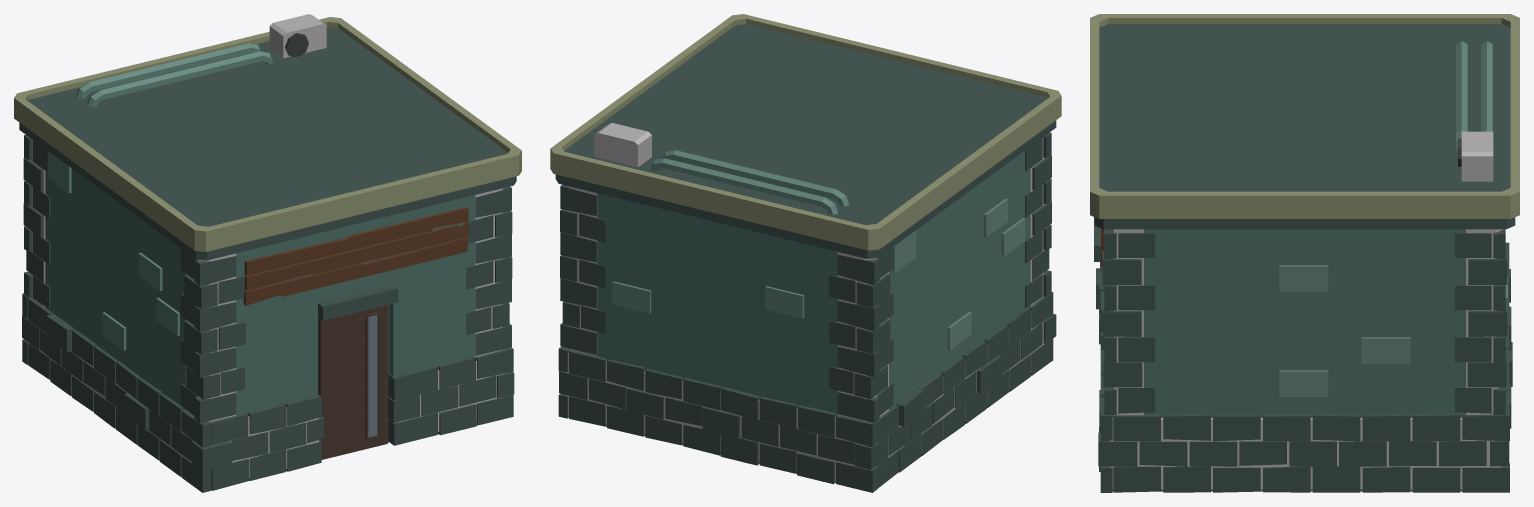
Rendered from quaternius-buildings-pack-3-1-story-sign-mat.glb.
The picture shows the model from 3 angles, left to right: view 1: azimuth 30°, elevation 25°; view 2: azimuth 150°, elevation 25°; view 3: azimuth 270°, elevation 25°; orthographic projection. The views are drawn at different scales.
Parts seen in each view (by area): view 1: 1Story_Sign_Mat; view 2: 1Story_Sign_Mat; view 3: 1Story_Sign_Mat.
Part boxes in pixels (x1=…): 1Story_Sign_Mat: x1=14, y1=14, x2=521, y2=492; 1Story_Sign_Mat: x1=550, y1=14, x2=1061, y2=492; 1Story_Sign_Mat: x1=1090, y1=14, x2=1519, y2=492.
Bounding box in the file's own units: 2.15 × 1.79 × 2.15.
Materials: 1 (1 with a texture image).
